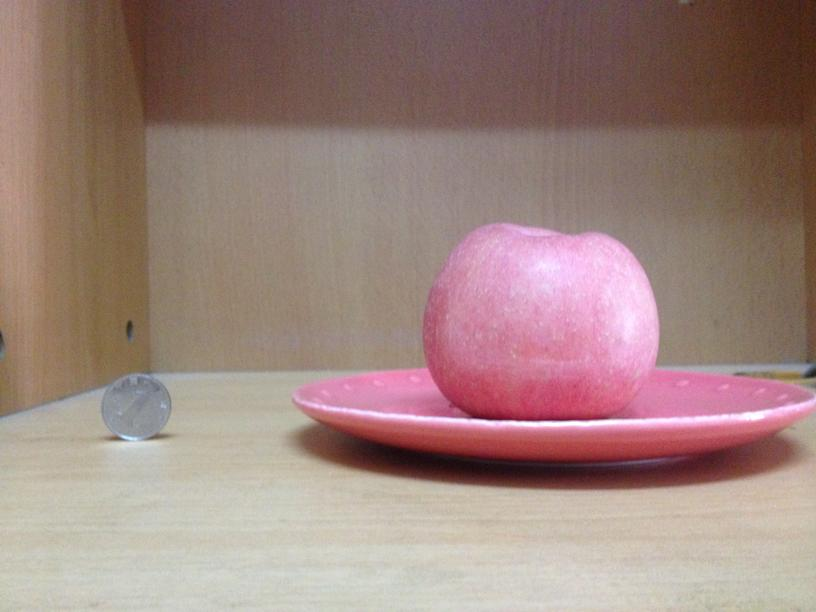apple: (418, 221, 659, 419)
coin: (100, 373, 171, 441)
